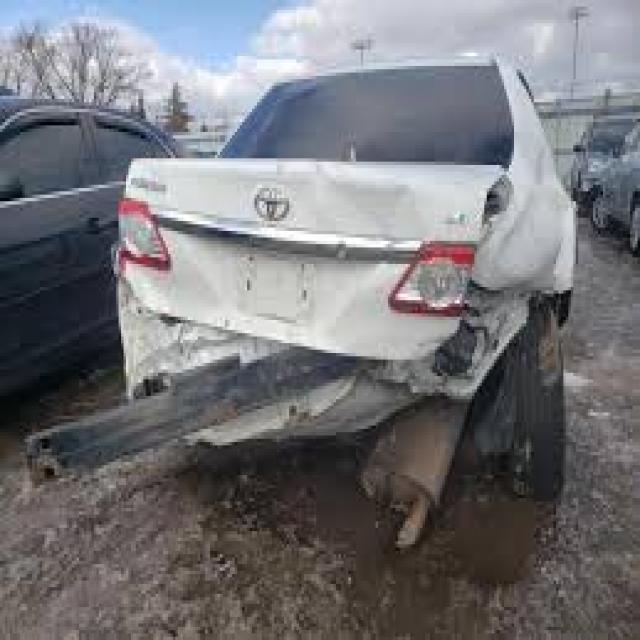damaged-trunk: (124, 144, 501, 362)
